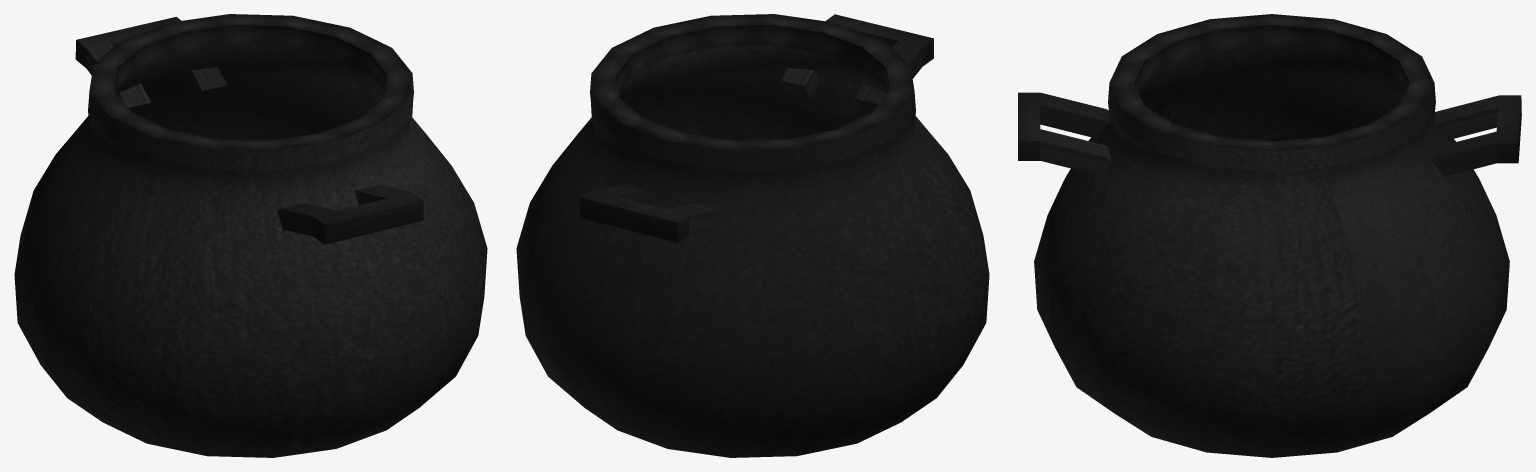
The model's file is cauldron.fbx.
The picture shows the model from 3 angles, left to right: view 1: azimuth 30°, elevation 25°; view 2: azimuth 150°, elevation 25°; view 3: azimuth 270°, elevation 25°; orthographic projection.
Visible parts, largest first — view 1: cauldronCombined; view 2: cauldronCombined; view 3: cauldronCombined.
Part boxes in pixels (bbox=[...]): cauldronCombined: bbox=[14, 14, 487, 457]; cauldronCombined: bbox=[516, 14, 989, 457]; cauldronCombined: bbox=[1018, 14, 1521, 457].
Size of the model in its own units: 5.84 by 4.7 by 6.18.
Materials: 1 (1 with a texture image).
